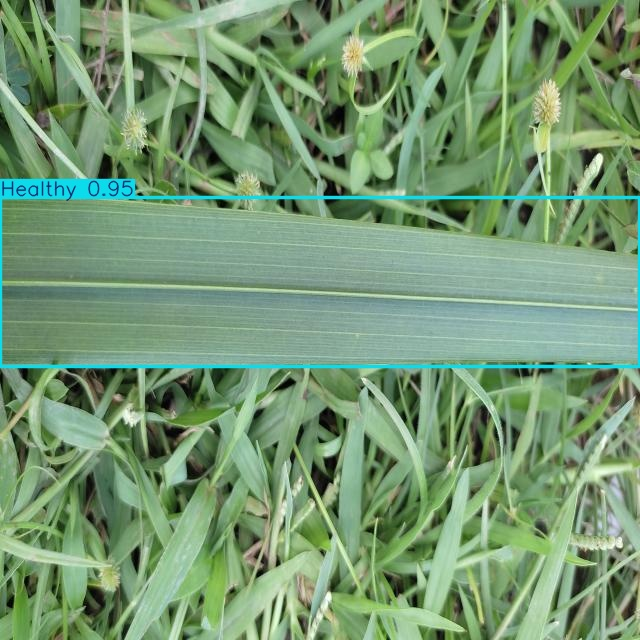Healthy: (0, 198, 640, 366)
